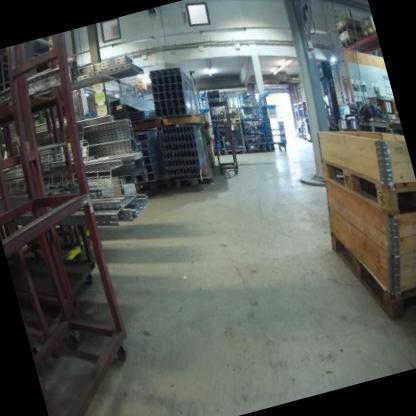pallet: (324, 209, 416, 332), (318, 137, 416, 234), (172, 168, 215, 194), (134, 174, 175, 200), (335, 21, 361, 38), (359, 22, 377, 38), (339, 35, 359, 49)
stillage: (216, 116, 253, 164), (217, 98, 244, 128)
